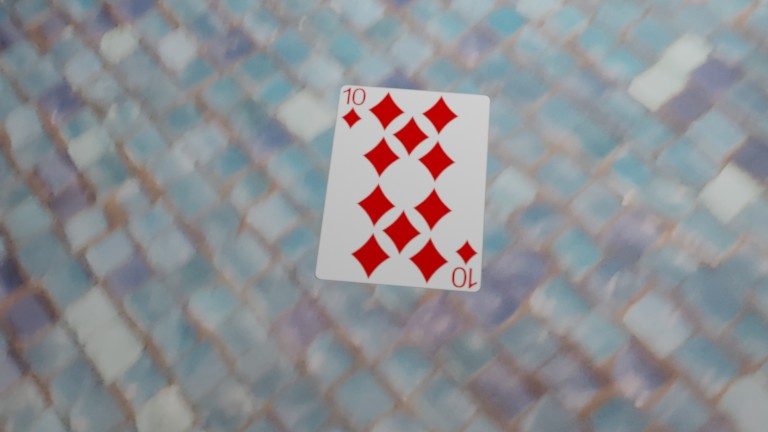10_of_diamonds: (179, 95, 192, 115), (134, 35, 148, 53)
